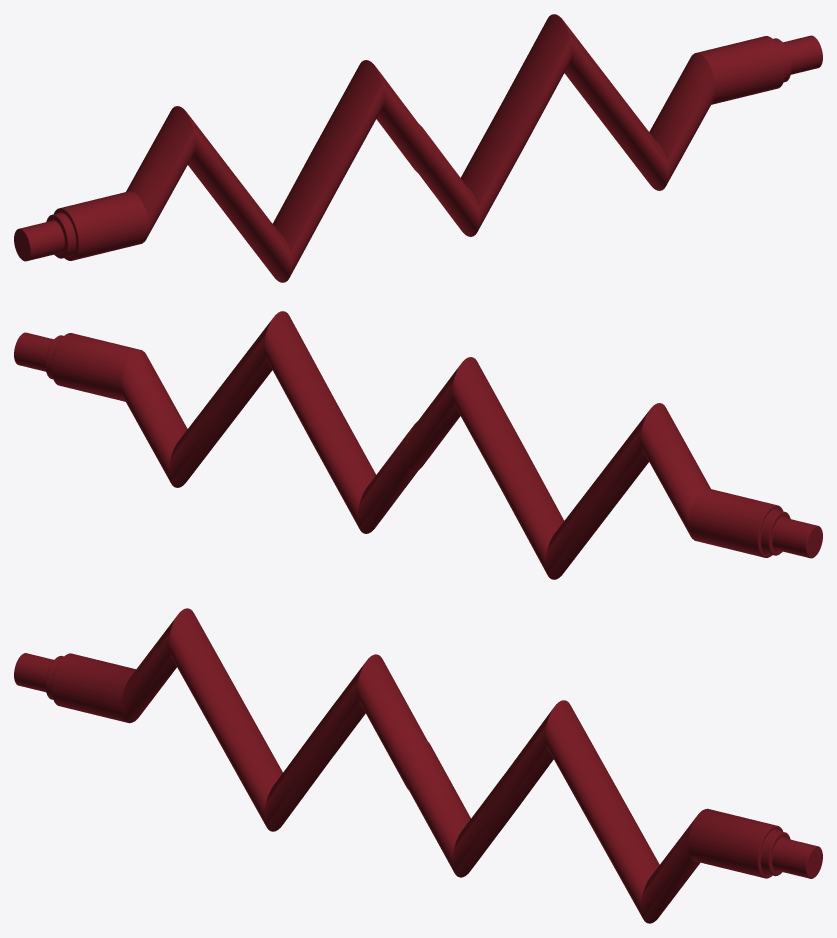
The model's file is grabbable_resistor.fbx.
The picture shows the model from 3 angles, top to bottom: view 1: azimuth 30°, elevation 25°; view 2: azimuth 150°, elevation 25°; view 3: azimuth 330°, elevation 25°; orthographic projection.
Visible parts, largest first — view 1: Resistor; view 2: Resistor; view 3: Resistor.
Boxes of the visible parts, x1,y1,x2,y2 form: Resistor: (14, 14, 822, 282); Resistor: (14, 311, 822, 579); Resistor: (14, 608, 822, 923).
Bounding box in the file's own units: 337 × 79.67 × 19.97.
